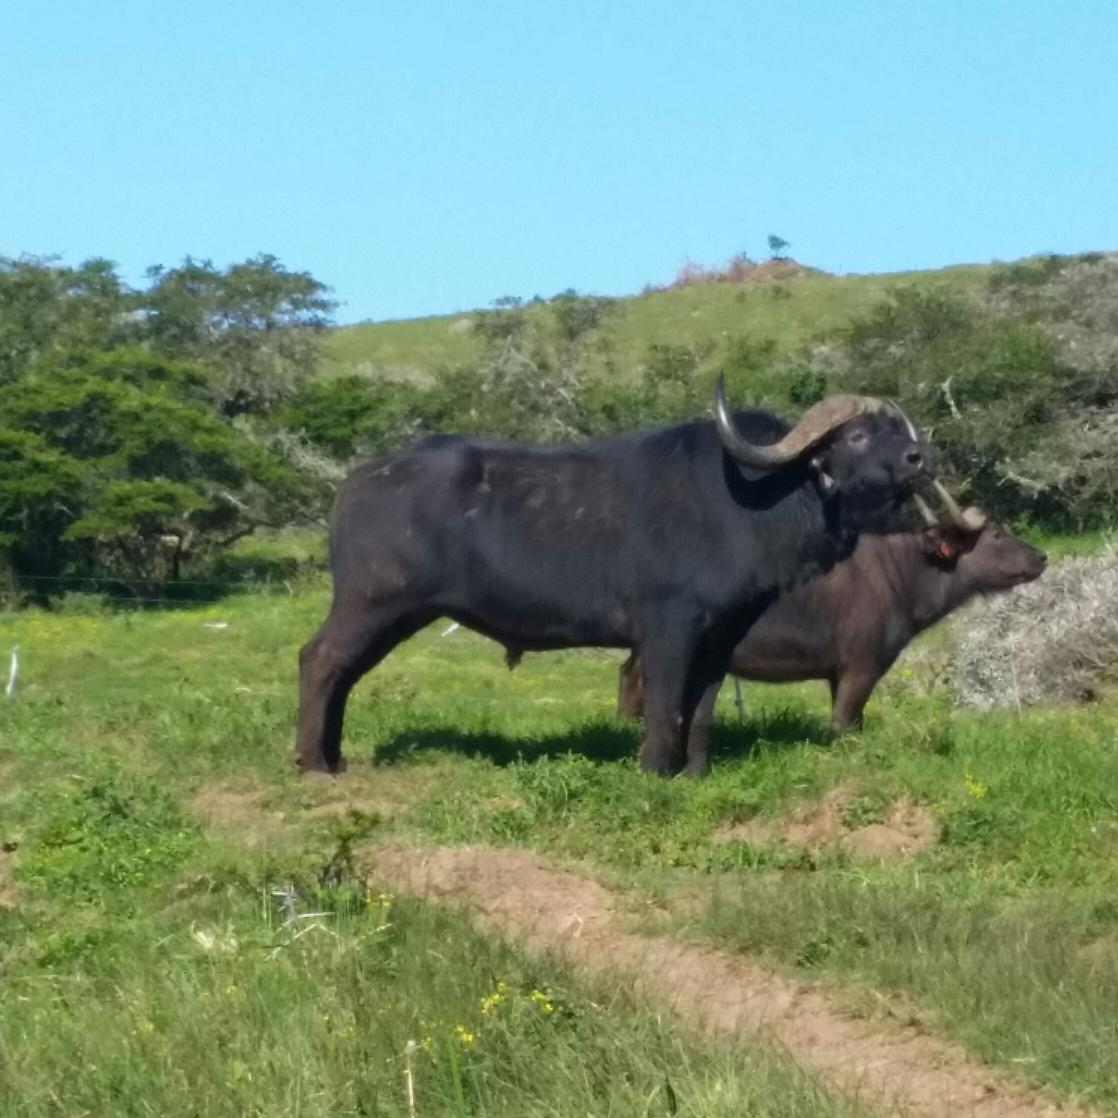Buffalo: (290, 368, 1004, 911)
